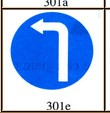Turn_left: (8, 11, 95, 91)
